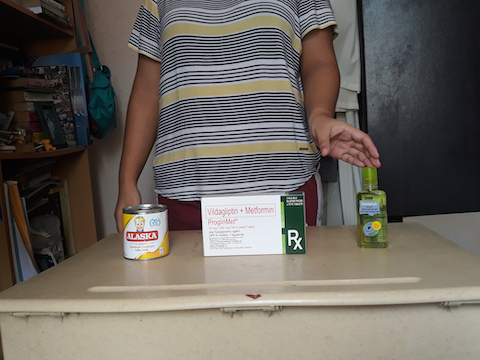bottle: (350, 162, 393, 251)
box: (197, 186, 311, 259)
can: (119, 203, 172, 263)
